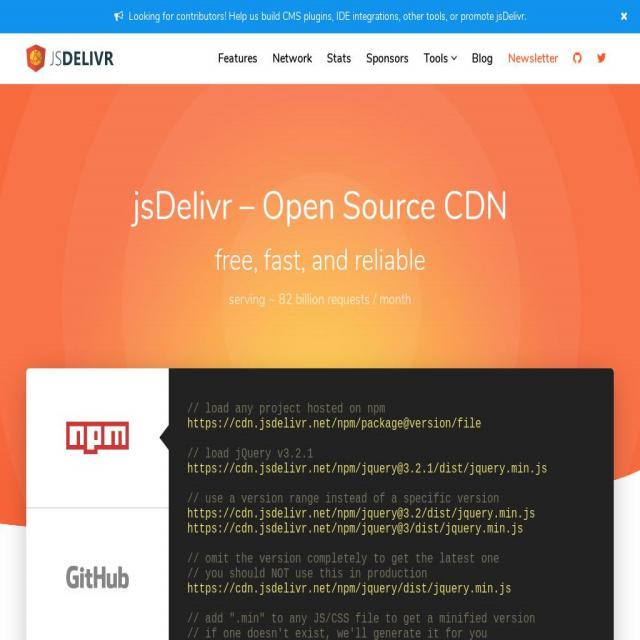follow-options: (568, 40, 610, 72)
navigation-links: (209, 33, 620, 87)
